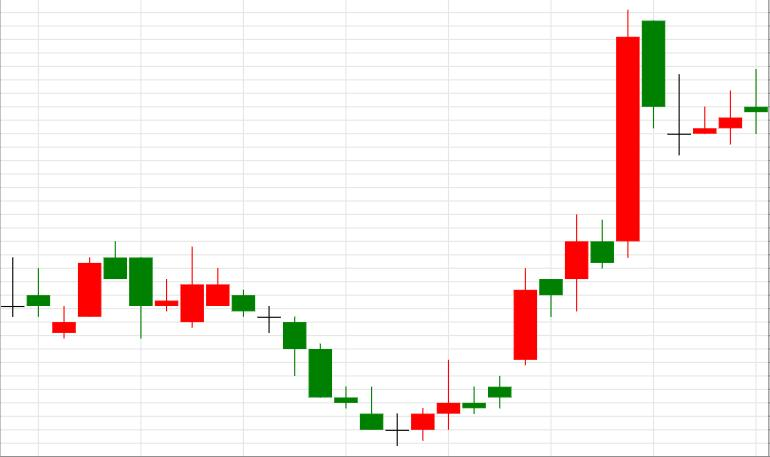morning_star_rise: (231, 291, 434, 446)
